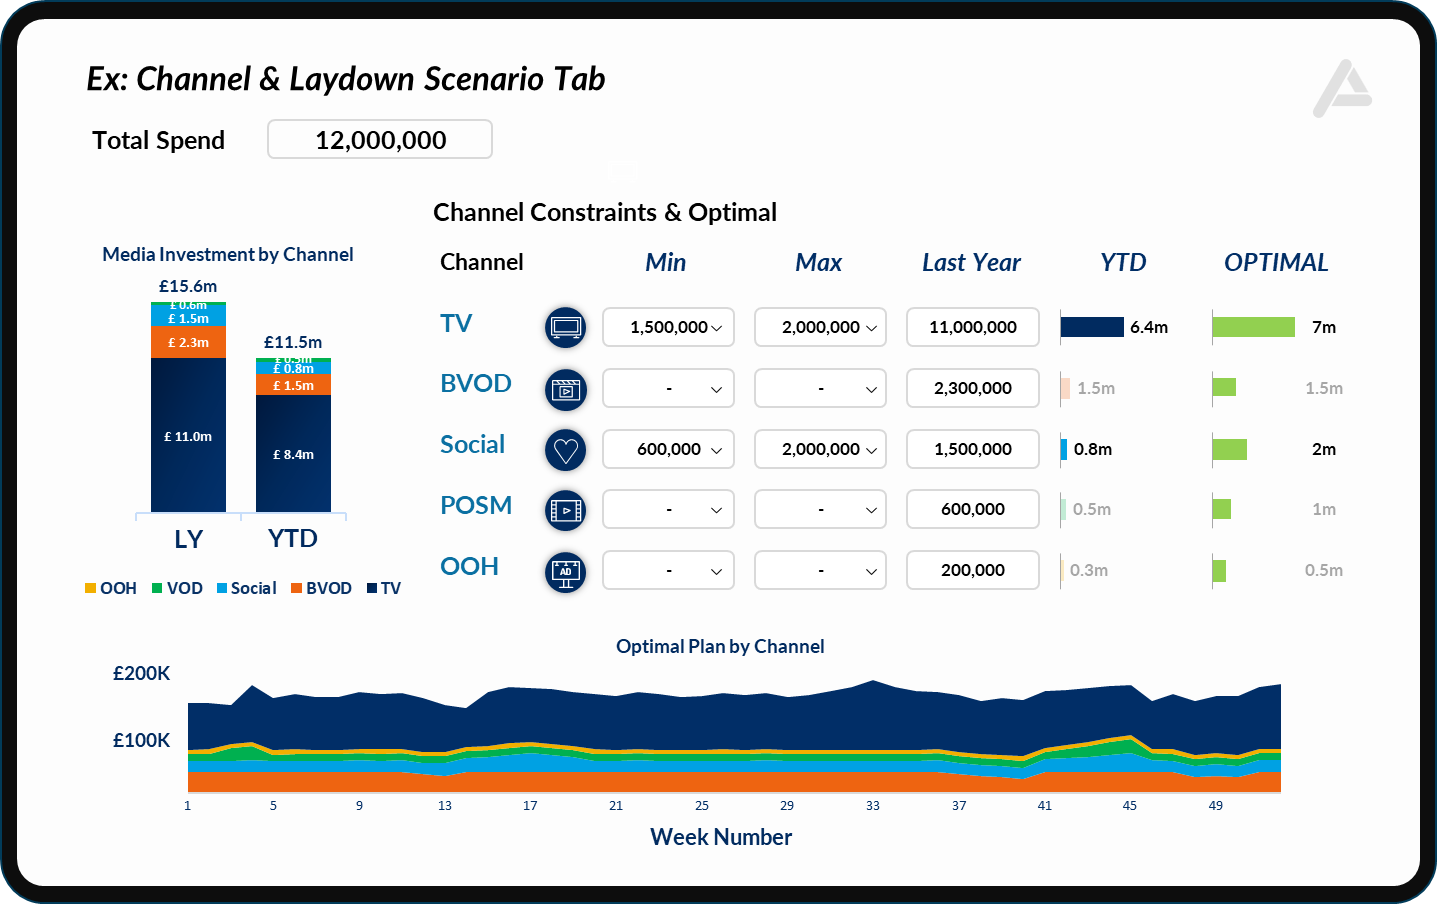

Layout of this report page (visuals, bound fields, positions):
{"tool":"powerbi","page":{"name":"Page 1","canvas":[2000,2000],"ordinal":0},"visuals":[{"type":"textbox","box":[10,0,1237.8,53.3],"z":0},{"type":"textbox","title":"Media Investment by Channel","box":[62.9,320,342.9,35.7],"z":1000},{"type":"columnChart","fields":{"Y":["Sum(DATA_MP.Spend 2021)"],"Series":["DATA_MP.Media"]},"box":[24.3,368.6,358.6,408.6],"z":2000},{"type":"columnChart","fields":{"Series":["DATA_MP.Media"],"Y":["Sum(DATA_MP.YTD 2022)"]},"box":[147.1,337.1,335.7,407.1],"z":3000},{"type":"card","fields":{"Values":["DATA_MP.Total_LY"]},"box":[62.9,378.6,98.6,35.7],"z":4000},{"type":"card","fields":{"Values":["DATA_MP.Total_YTD"]},"box":[355.7,380,84.3,35.7],"z":5000},{"type":"tableEx","fields":{"Values":["Images.Channel","Images.Translated_images"]},"box":[668.6,381.4,270,451.4],"z":6000},{"type":"textbox","box":[677.1,302.9,330,47.1],"z":7000},{"type":"textbox","title":"Min","box":[850,367.1,48.6,28.6],"z":8000},{"type":"textbox","title":"Max","box":[977.1,364.3,67.1,35.7],"z":9000},{"type":"slicer","fields":{"Values":["Images_independent.test_max"]},"box":[974.3,402.9,137.1,48.6],"z":10000},{"type":"slicer","fields":{"Values":["Images_independent.test_max"]},"box":[974.3,480,137.1,55.7],"z":11000},{"type":"slicer","fields":{"Values":["Images_independent.test_max"]},"box":[977.1,560,134.3,47.1],"z":12000},{"type":"slicer","fields":{"Values":["Images_independent.test_max"]},"box":[974.3,630,137.1,58.6],"z":13000},{"type":"slicer","fields":{"Values":["Images_independent.test_max"]},"box":[977.1,722.9,127.1,70],"z":14000},{"type":"slicer","fields":{"Values":["Images_independent.test_min"]},"box":[835.7,408.6,125.7,57.1],"z":15000},{"type":"slicer","fields":{"Values":["Images_independent.test_min"]},"box":[838.6,485.7,125.7,55.7],"z":16000},{"type":"slicer","fields":{"Values":["Images_independent.test_min"]},"box":[835.7,565.7,125.7,64.3],"z":17000},{"type":"slicer","fields":{"Values":["Images_independent.test_min"]},"box":[842.9,642.9,134.3,58.6],"z":18000},{"type":"slicer","fields":{"Values":["Images_independent.test_min"]},"box":[835.7,722.9,131.4,52.9],"z":19000},{"type":"textbox","title":"Last Year","box":[1137.1,364.3,140,41.4],"z":20000},{"type":"card","fields":{"Values":["Sum(DATA_MP.Spend 2021)"]},"box":[1124.3,480,120,50],"z":21000},{"type":"card","fields":{"Values":["Sum(DATA_MP.Spend 2021)"]},"box":[1137.1,551.4,94.3,65.7],"z":22000},{"type":"card","fields":{"Values":["Sum(DATA_MP.Spend 2021)"]},"box":[1142.9,390,98.6,72.9],"z":23000},{"type":"card","fields":{"Values":["Sum(DATA_MP.Spend 2021)"]},"box":[1142.9,630,84.3,48.6],"z":24000},{"type":"card","fields":{"Values":["Sum(DATA_MP.Spend 2021)"]},"box":[1142.9,712.9,81.4,61.4],"z":25000},{"type":"textbox","title":"YTD","box":[1397.1,362.9,52.9,34.3],"z":26000},{"type":"clusteredBarChart","fields":{"Category":["Order Channels.Media"],"Y":["Sum(DATA_MP.YTD 2022)"]},"box":[1397.1,415.7,254.3,365.7],"z":27000},{"type":"textbox","title":"OPTIMAL","box":[1631.4,361.4,124.3,38.6],"z":28000},{"type":"clusteredBarChart","fields":{"Category":["Oder_optimal.Channel"],"Y":["Sum(Images.Optimal)"]},"box":[1637.1,415.7,257.1,368.6],"z":29000},{"type":"textbox","title":"Optimal Plan by Channel","box":[805.7,857.1,264.3,35.7],"z":30000},{"type":"stackedAreaChart","fields":{"Category":["Spend_OPT_Processed.Period"],"Y":["Sum(Spend_OPT_Processed.Spend_OPT)"],"Series":["Spend_OPT_Processed.Media"]},"box":[227.1,844.3,1560,431.4],"z":31000},{"type":"textbox","title":"Ex: Channel & Laydown Scenario Tab","box":[10,52.9,541.4,41.4],"z":32000},{"type":"textbox","title":"Total Spend","box":[10,117.1,137.1,31.4],"z":33000},{"type":"textbox","title":" 1,388,400 ","box":[161.4,117.1,117.1,34.3],"z":34000}]}

Visuals, with their boxes on the page's 2000x2000 design canvas (x1, y1, x2, y2). These are canvas units, not pixel positions in the 1437x904 screenshot, which may show the page scaled, cropped or inside an application window:
textbox: select_region(10, 0, 1248, 53)
"Media Investment by Channel" textbox: select_region(63, 320, 406, 356)
columnChart - Sum(DATA_MP.Spend 2021) x DATA_MP.Media: select_region(24, 369, 383, 777)
columnChart - DATA_MP.Media x Sum(DATA_MP.YTD 2022): select_region(147, 337, 483, 744)
card - DATA_MP.Total_LY: select_region(63, 379, 162, 414)
card - DATA_MP.Total_YTD: select_region(356, 380, 440, 416)
tableEx - Images.Channel x Images.Translated_images: select_region(669, 381, 939, 833)
textbox: select_region(677, 303, 1007, 350)
"Min" textbox: select_region(850, 367, 899, 396)
"Max" textbox: select_region(977, 364, 1044, 400)
slicer - Images_independent.test_max: select_region(974, 403, 1111, 452)
slicer - Images_independent.test_max: select_region(974, 480, 1111, 536)
slicer - Images_independent.test_max: select_region(977, 560, 1111, 607)
slicer - Images_independent.test_max: select_region(974, 630, 1111, 689)
slicer - Images_independent.test_max: select_region(977, 723, 1104, 793)
slicer - Images_independent.test_min: select_region(836, 409, 961, 466)
slicer - Images_independent.test_min: select_region(839, 486, 964, 541)
slicer - Images_independent.test_min: select_region(836, 566, 961, 630)
slicer - Images_independent.test_min: select_region(843, 643, 977, 702)
slicer - Images_independent.test_min: select_region(836, 723, 967, 776)
"Last Year" textbox: select_region(1137, 364, 1277, 406)
card - Sum(DATA_MP.Spend 2021): select_region(1124, 480, 1244, 530)
card - Sum(DATA_MP.Spend 2021): select_region(1137, 551, 1231, 617)
card - Sum(DATA_MP.Spend 2021): select_region(1143, 390, 1242, 463)
card - Sum(DATA_MP.Spend 2021): select_region(1143, 630, 1227, 679)
card - Sum(DATA_MP.Spend 2021): select_region(1143, 713, 1224, 774)
"YTD" textbox: select_region(1397, 363, 1450, 397)
clusteredBarChart - Order Channels.Media x Sum(DATA_MP.YTD 2022): select_region(1397, 416, 1651, 781)
"OPTIMAL" textbox: select_region(1631, 361, 1756, 400)
clusteredBarChart - Oder_optimal.Channel x Sum(Images.Optimal): select_region(1637, 416, 1894, 784)
"Optimal Plan by Channel" textbox: select_region(806, 857, 1070, 893)
stackedAreaChart - Spend_OPT_Processed.Period x Sum(Spend_OPT_Processed.Spend_OPT): select_region(227, 844, 1787, 1276)
"Ex: Channel & Laydown Scenario Tab" textbox: select_region(10, 53, 551, 94)
"Total Spend" textbox: select_region(10, 117, 147, 148)
" 1,388,400 " textbox: select_region(161, 117, 278, 151)
